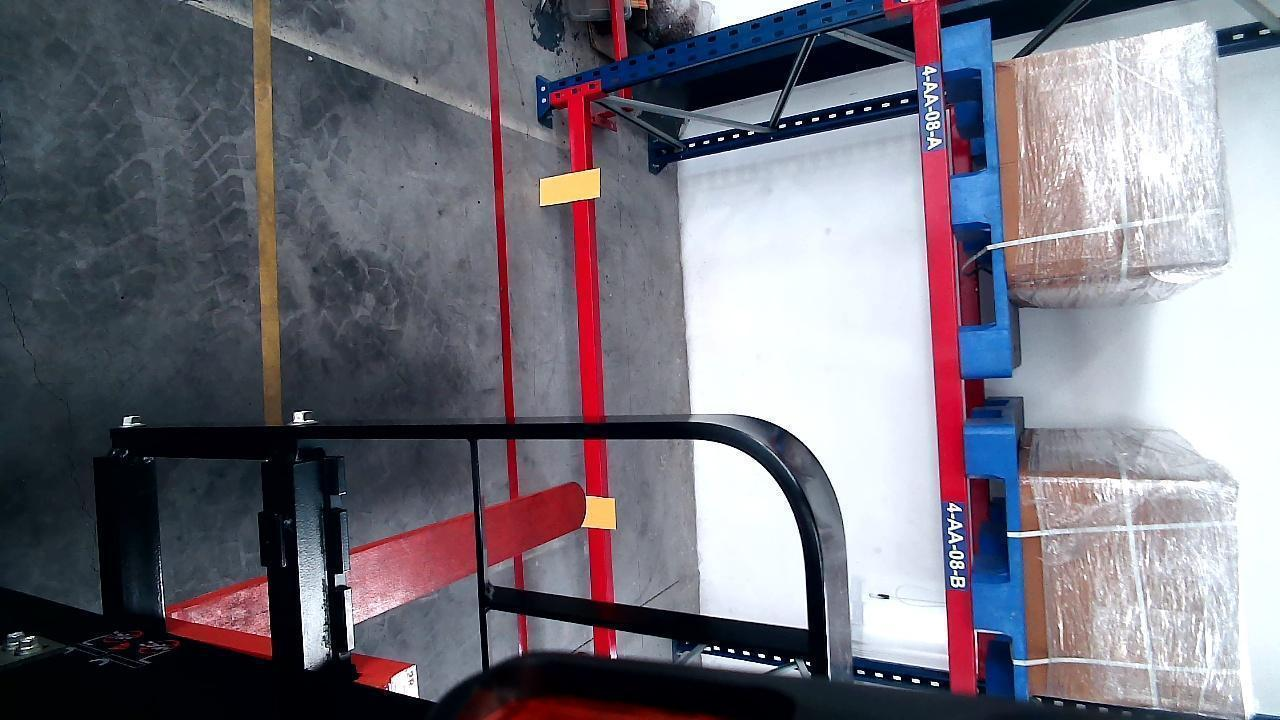red_line: (486, 4, 526, 652)
yellow_line: (255, 0, 281, 417)
